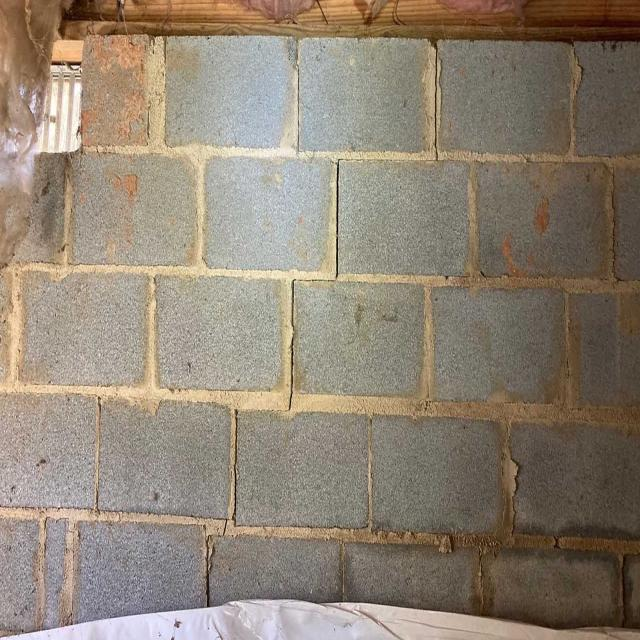Crack: (200, 41, 447, 610)
